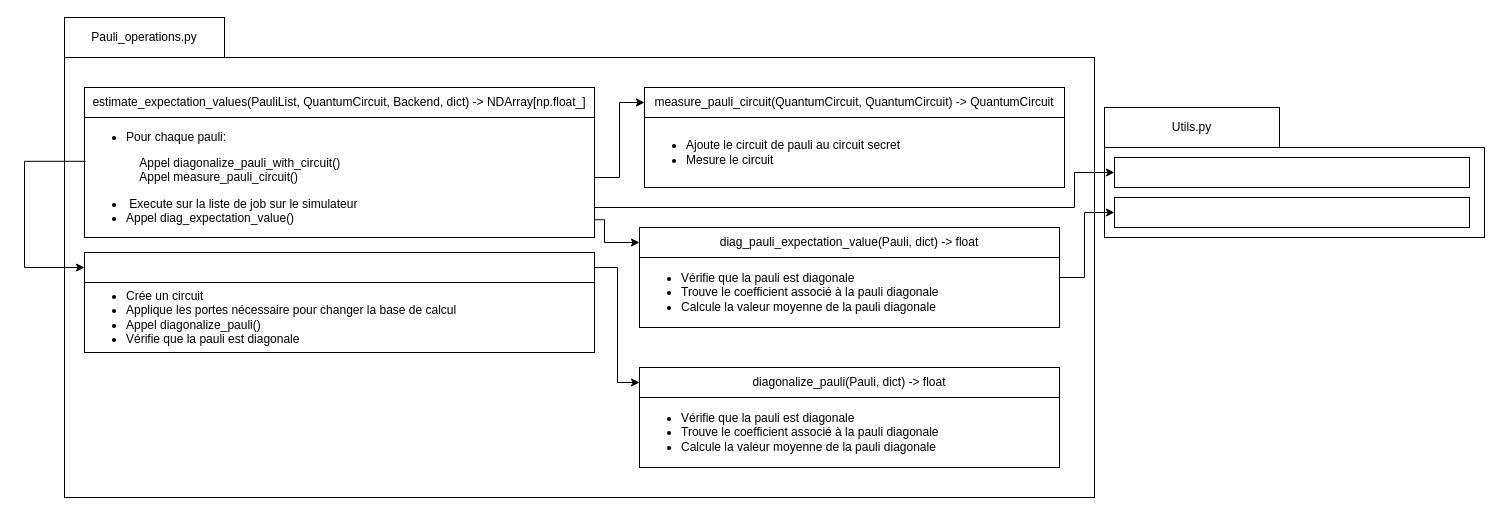
Image size: 1502x515. Some labels were removed from this diagram. Each missing label, with the centre of its shape:
bitstring_to_bits(str) -> NDArray[np.bool]: point 1292,212
diagonalize_pauli_with_circuit(PauliList, dict) -> float: point 339,267
execute_job(QuantumCircuit, Backend, dict) -> dict: point 1292,172
